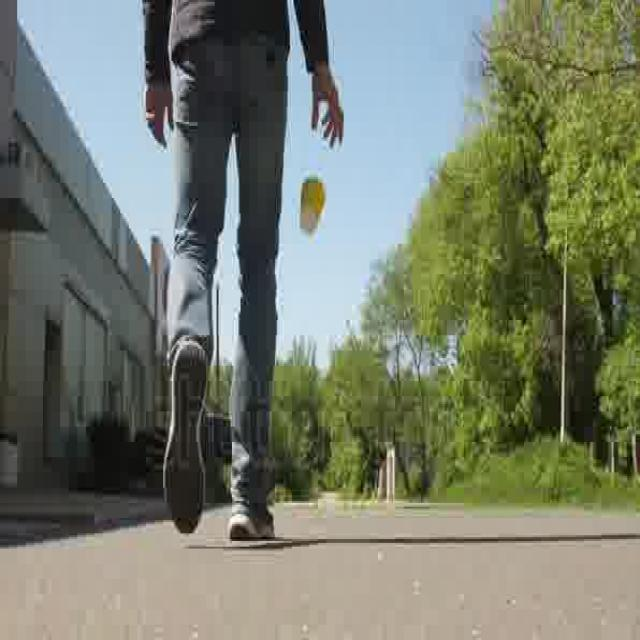garbage_dumping: (296, 176, 328, 238)
